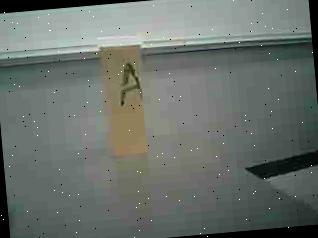Bottle A: (88, 24, 168, 172)
